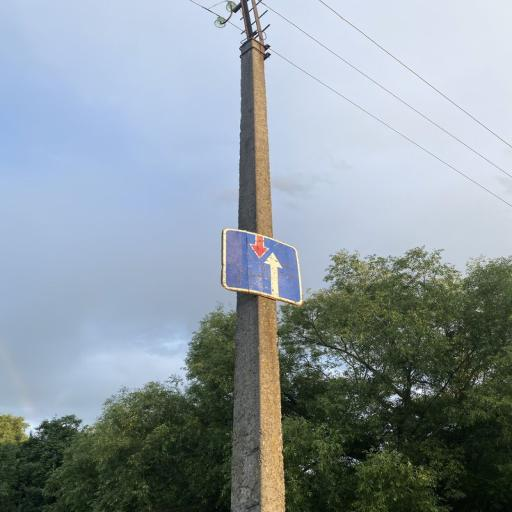phone: (228, 39, 293, 512)
